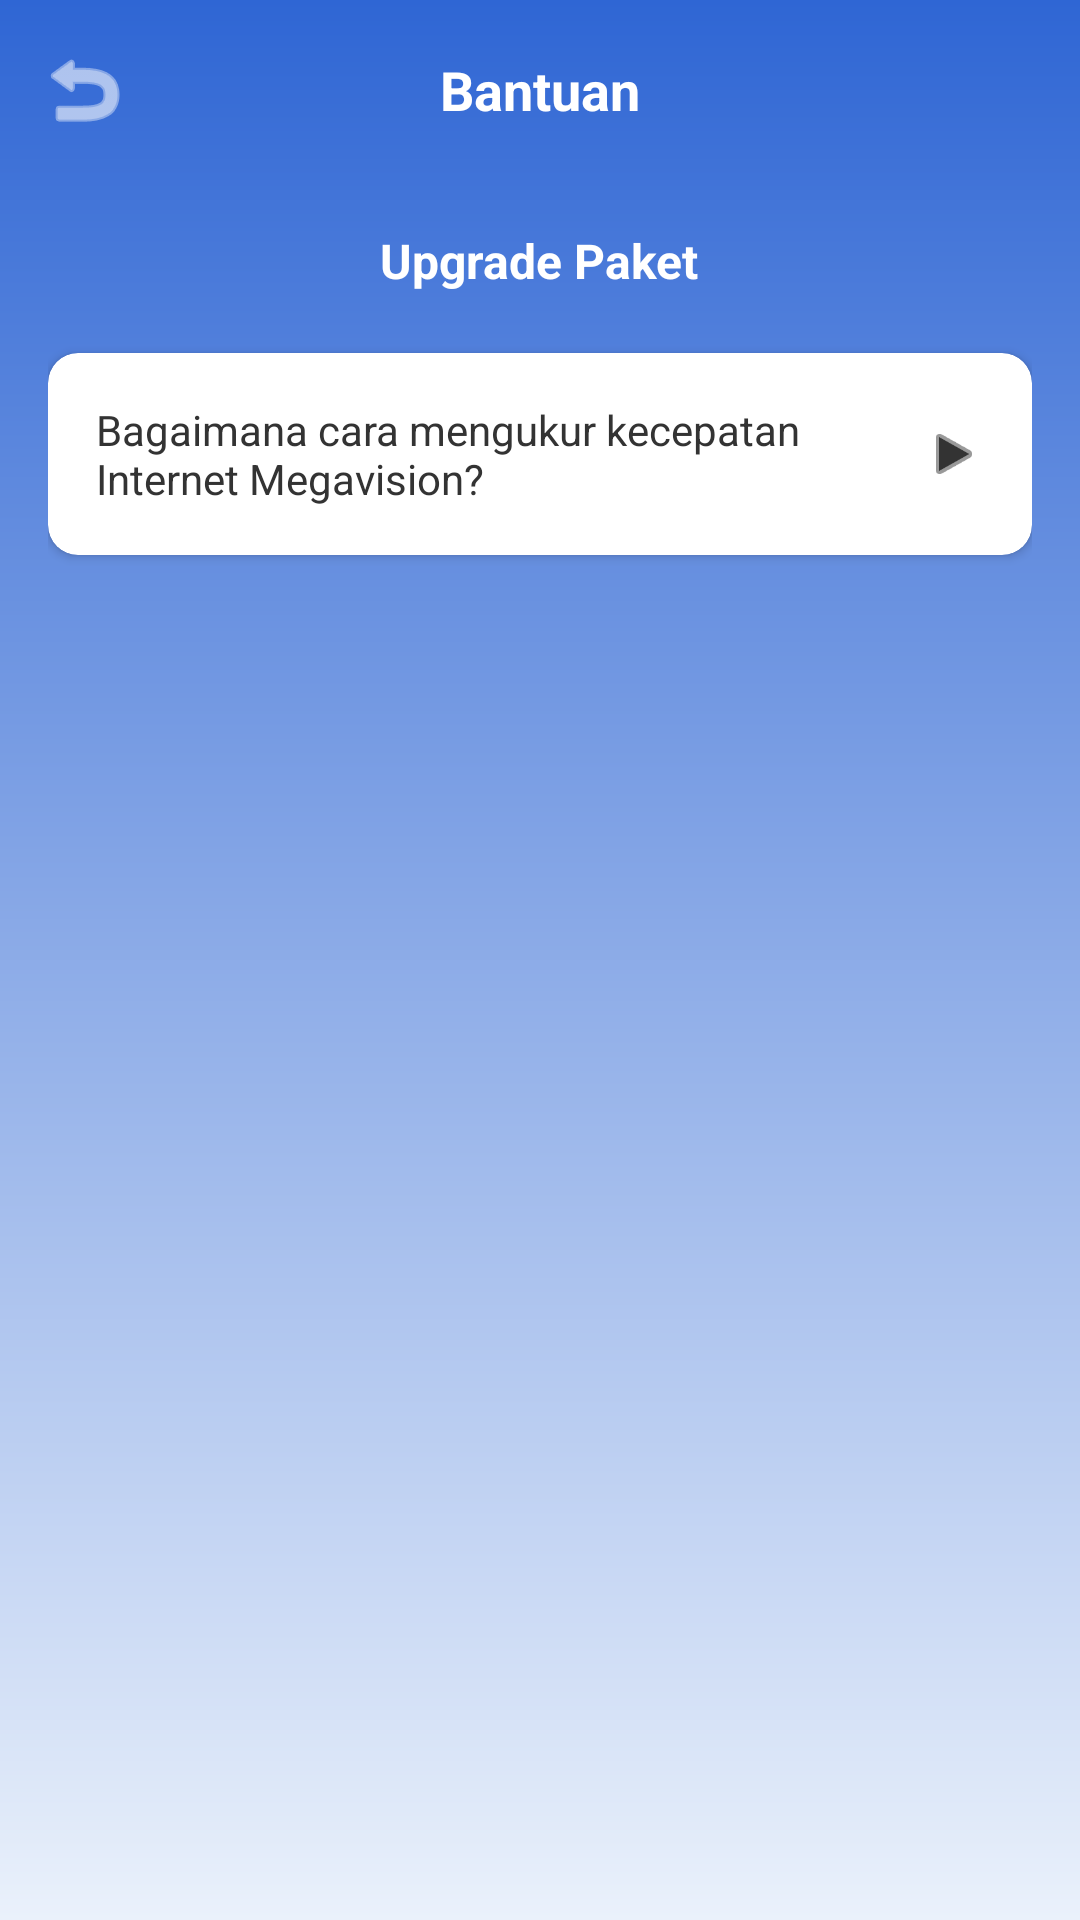

Icon click points for this 1080×1920 phone screenshot, format [x,y]:
Kembali: [85,91]
play: [954,454]
